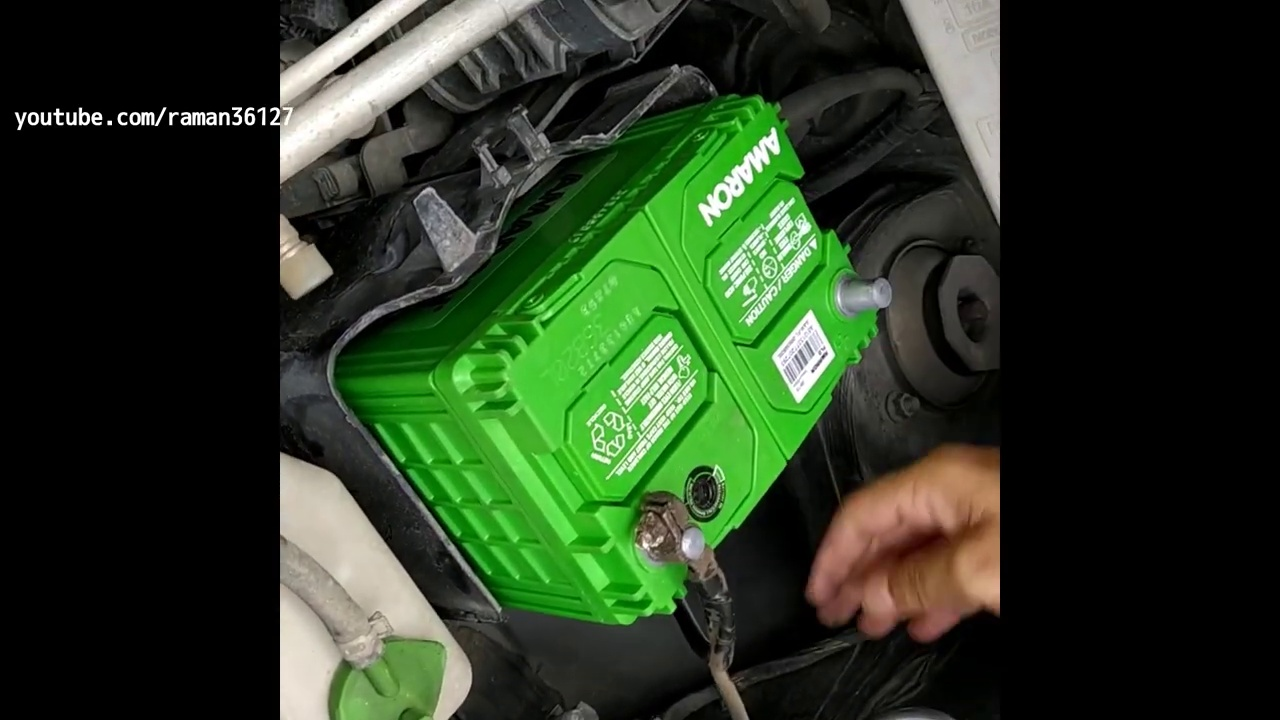battery: (476, 102, 887, 608)
